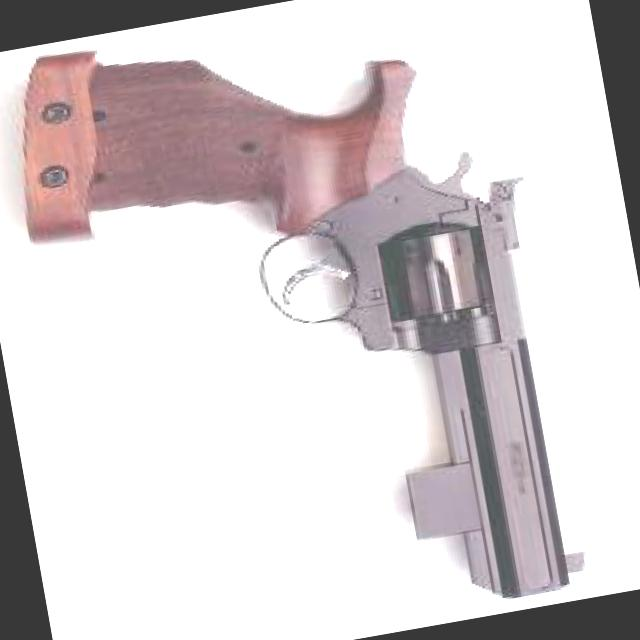handgun: (8, 0, 603, 639)
